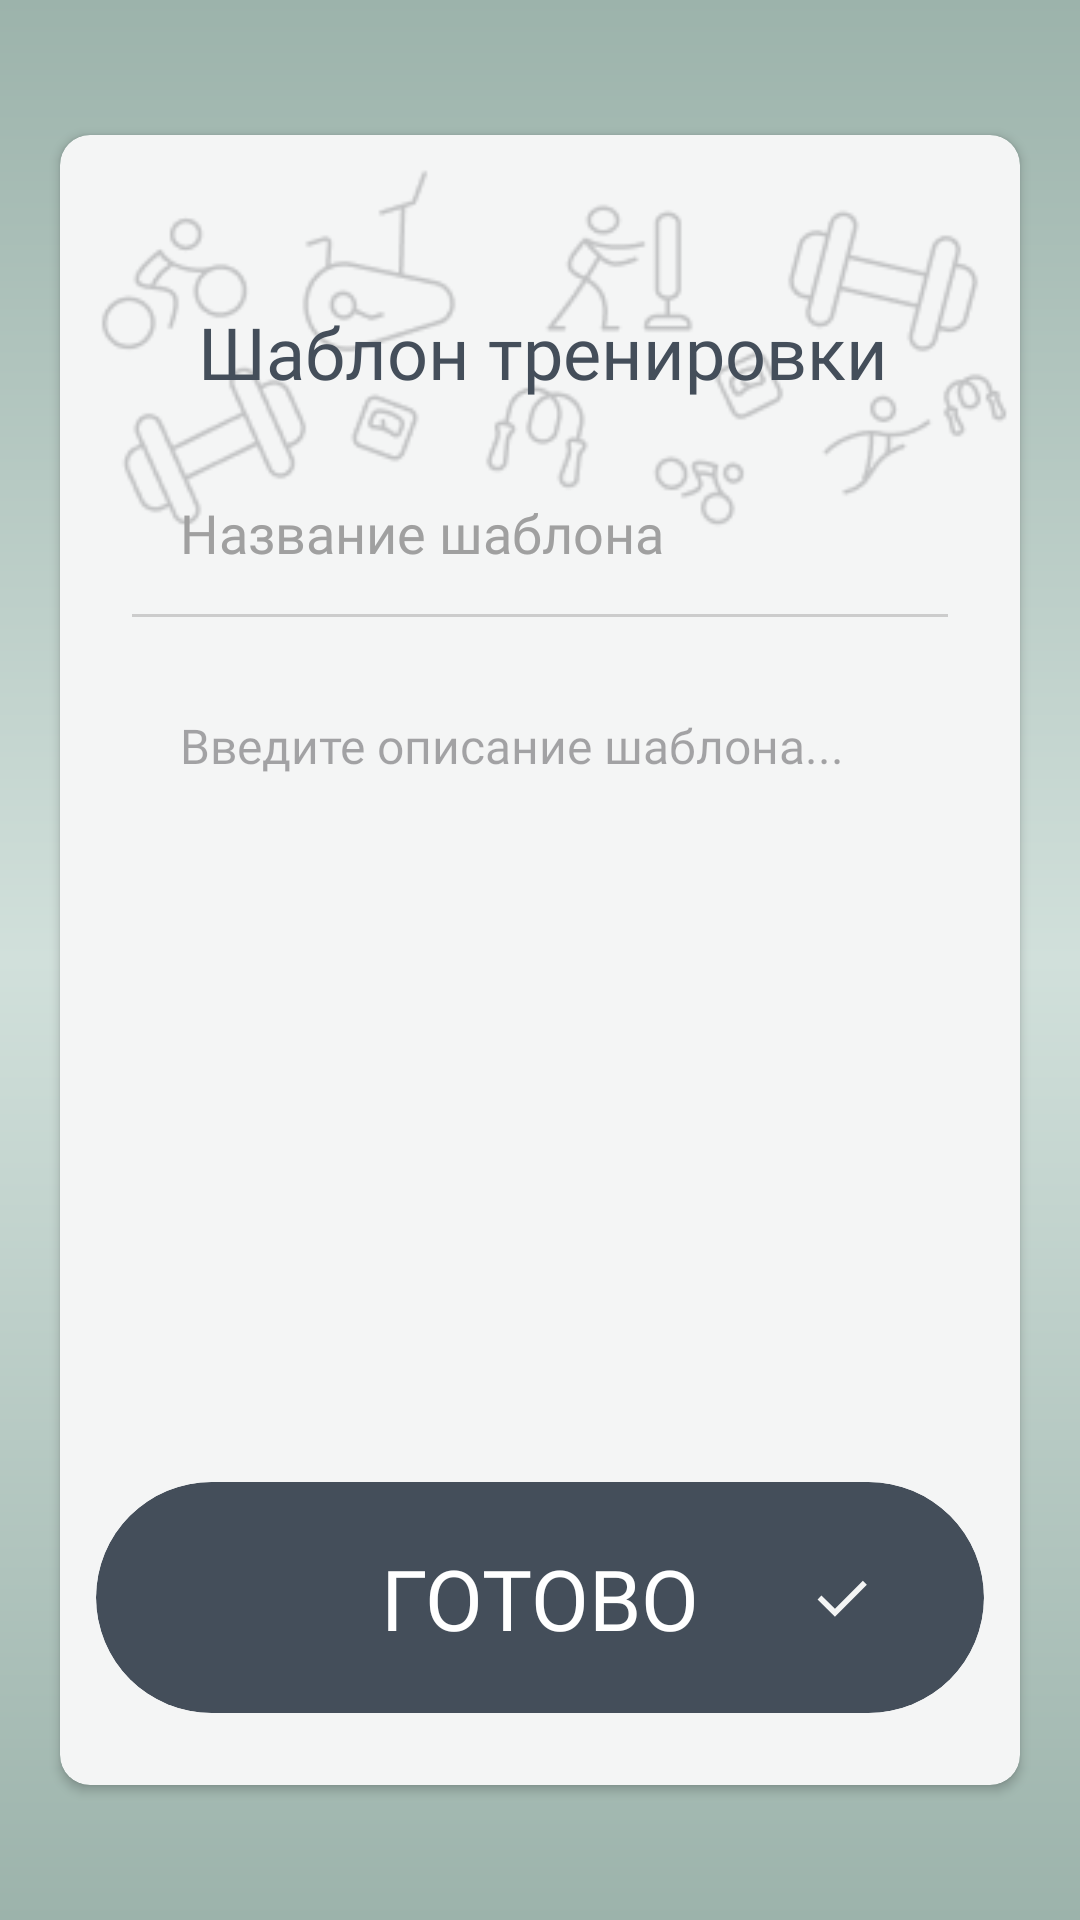

Point at icon controls on the screen. Image size 1080 × 1920, points as point (x, y).
check: point (842, 1599)
